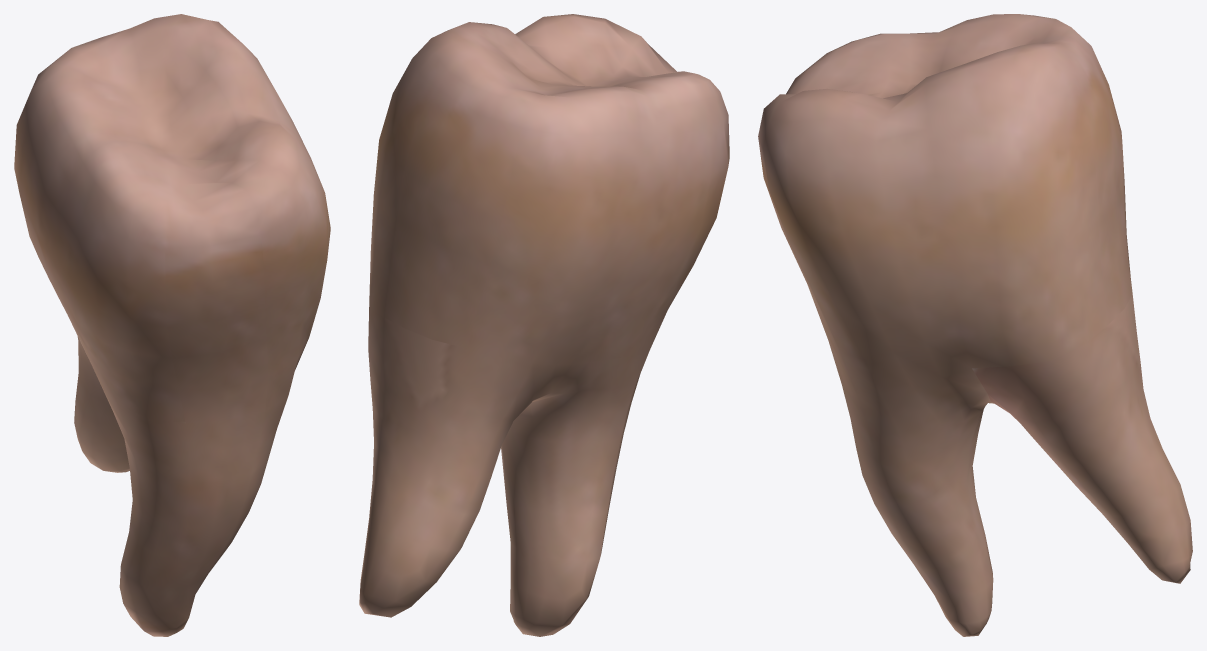
3 views of the same model, side by side, from view 1: azimuth 30°, elevation 25°; view 2: azimuth 150°, elevation 25°; view 3: azimuth 270°, elevation 25° (orthographic). The views are drawn at different scales.
Visible parts, largest first — view 1: t_37; view 2: t_37; view 3: t_37.
Boxes of the visible parts, x1,y1,x2,y2 form: t_37: [14, 14, 330, 636]; t_37: [359, 14, 729, 636]; t_37: [758, 14, 1192, 636].
Size of the model in its own units: 0.0891 by 0.1921 by 0.1248.
Materials: 1 (1 with a texture image).
